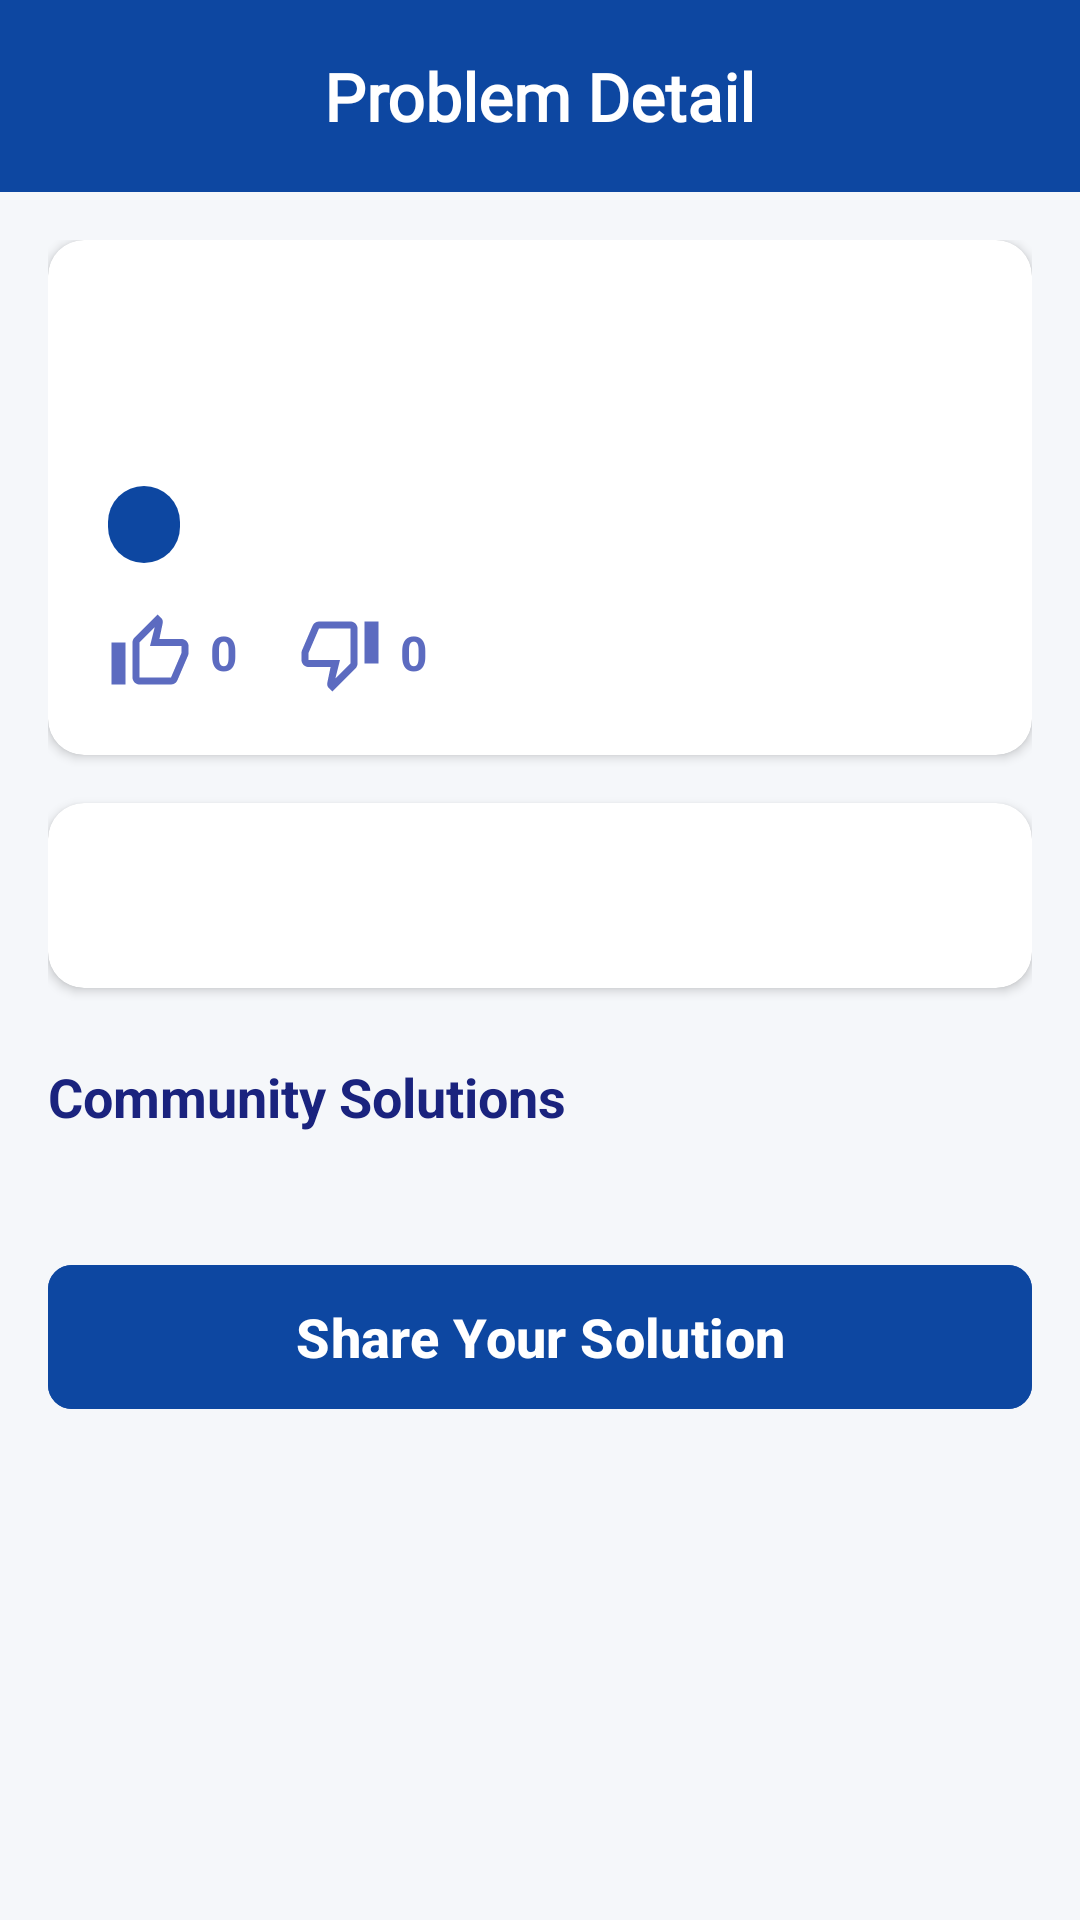

Named icons in this screenshot (1080 x 1920) and their centers, [x,y]:
dislike: [340,656]
like: [150,649]
